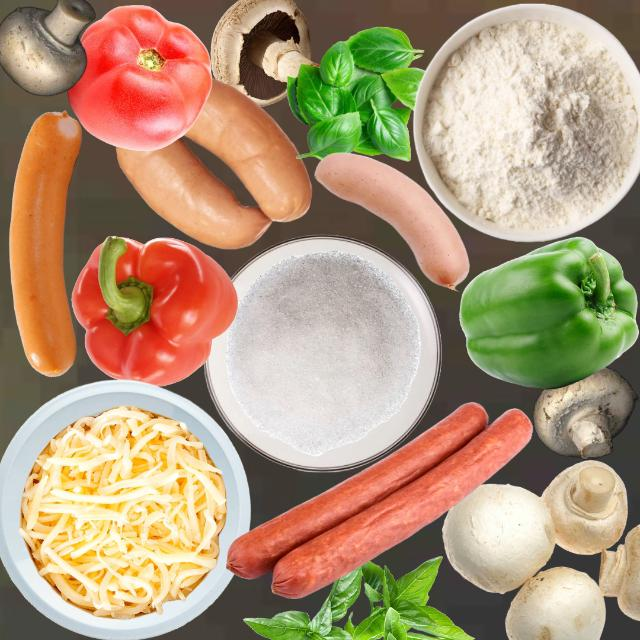Flour: (423, 18, 637, 231)
Sugar: (224, 249, 421, 456)
